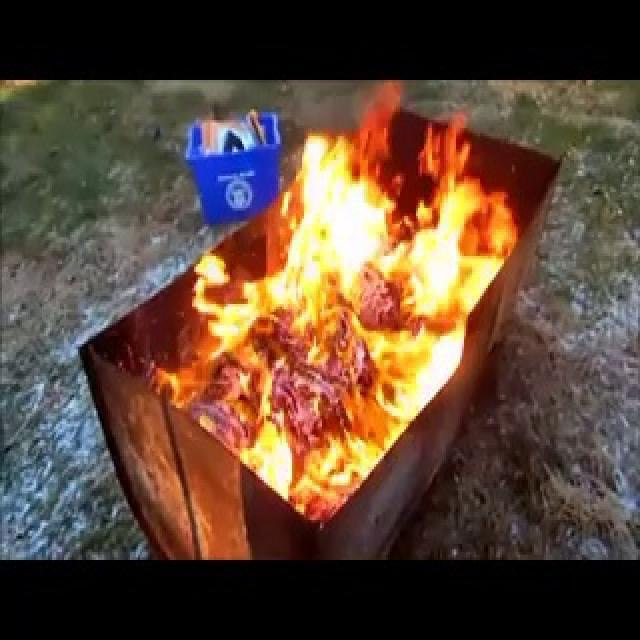Fire: (198, 85, 520, 528)
